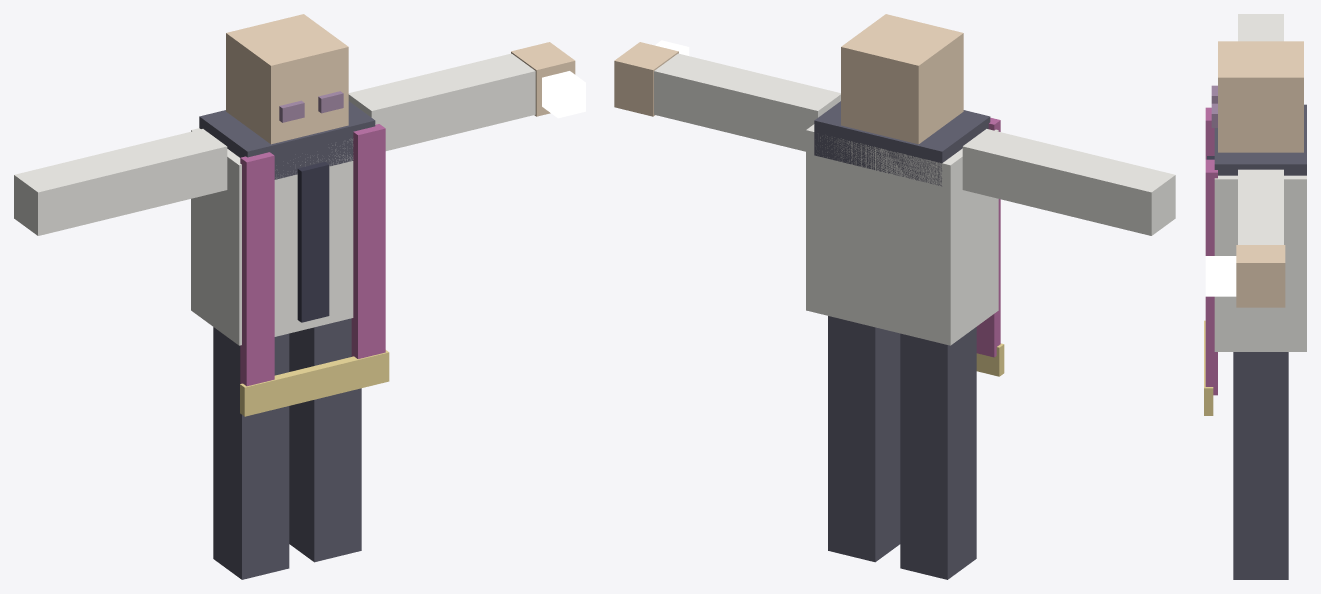
The model's file is exorcist.glb.
3 renders of one model, left to right at view 1: azimuth 30°, elevation 25°; view 2: azimuth 150°, elevation 25°; view 3: azimuth 270°, elevation 25°, orthographic. The views are drawn at different scales.
Visible parts, largest first — view 1: Torso, LegL, LegR, ArmL, Head, ArmR, StoleL, StoleR, Collar, Tie, StoleHem, Sprayer (+1 smaller); view 2: Torso, LegL, LegR, ArmL, Head, ArmR, Collar, HandR, StoleL; view 3: LegR, Head, Torso, ArmR, HandR, Collar, StoleR, Sprayer, ArmL, StoleL, StoleHem, EyeBagR.
Part boxes in pixels (left/top/right/bottom): Torso: left=191, top=124, right=375, bottom=345; LegL: left=213, top=327, right=289, bottom=579; LegR: left=289, top=318, right=361, bottom=562; ArmL: left=14, top=129, right=227, bottom=235; Head: left=226, top=14, right=348, bottom=144; ArmR: left=348, top=53, right=535, bottom=150; StoleL: left=240, top=152, right=274, bottom=386; StoleR: left=351, top=124, right=385, bottom=358; Collar: left=199, top=101, right=375, bottom=179; Tie: left=297, top=162, right=329, bottom=322; StoleHem: left=240, top=350, right=389, bottom=416; Sprayer: left=542, top=71, right=585, bottom=118; Torso: left=806, top=124, right=998, bottom=345; LegL: left=900, top=327, right=976, bottom=579; LegR: left=828, top=316, right=900, bottom=562; ArmL: left=962, top=129, right=1175, bottom=235; Head: left=841, top=14, right=963, bottom=144; ArmR: left=654, top=53, right=840, bottom=151; Collar: left=814, top=101, right=990, bottom=186; HandR: left=614, top=42, right=678, bottom=116; StoleL: left=976, top=117, right=1000, bottom=357; LegR: left=1233, top=352, right=1288, bottom=579; Head: left=1218, top=41, right=1303, bottom=152; Torso: left=1214, top=175, right=1306, bottom=351; ArmR: left=1238, top=169, right=1283, bottom=244; HandR: left=1236, top=245, right=1285, bottom=307; Collar: left=1214, top=104, right=1306, bottom=175; StoleR: left=1205, top=159, right=1217, bottom=395; Sprayer: left=1205, top=256, right=1236, bottom=296; ArmL: left=1238, top=14, right=1283, bottom=41; StoleL: left=1205, top=107, right=1214, bottom=159; StoleHem: left=1204, top=320, right=1213, bottom=415; EyeBagR: left=1211, top=103, right=1217, bottom=127.
Size of the model in its own units: 1.93 by 1.77 by 0.335.
